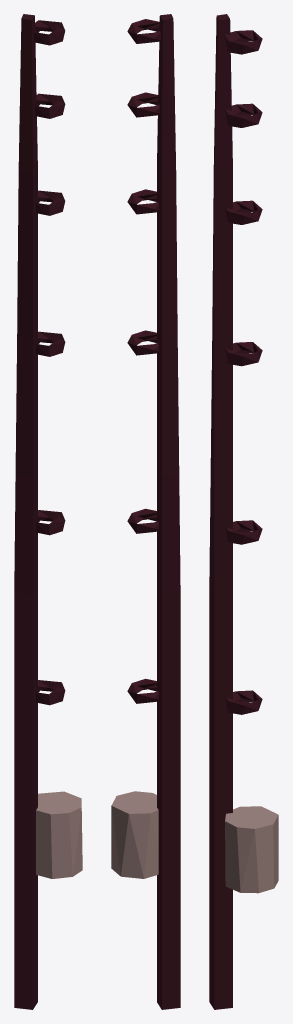
File: Fishing Rod.fbx
The picture shows the model from 3 angles, left to right: view 1: azimuth 30°, elevation 25°; view 2: azimuth 150°, elevation 25°; view 3: azimuth 330°, elevation 25°; orthographic projection.
Parts seen in each view (by area): view 1: Rod, Reel, Rings; view 2: Rod, Reel, Rings; view 3: Rod, Reel, Rings.
Boxes of the visible parts, x1,y1,x2,y2 form: Rod: (14,14,37,1009); Reel: (36,791,82,878); Rings: (33,20,65,705); Rod: (157,14,180,1009); Reel: (111,791,158,878); Rings: (127,19,160,703); Rod: (209,14,232,1009); Reel: (225,806,278,893); Rings: (224,30,262,714).
Size of the model in its own units: 151 by 2168 by 110.
